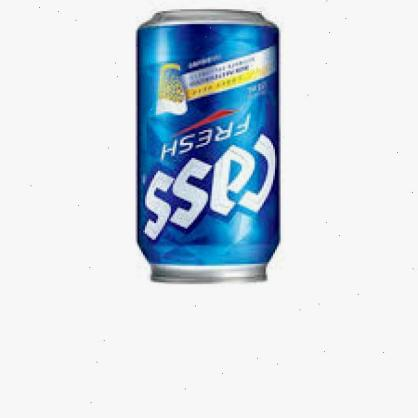can: (136, 9, 281, 284)
